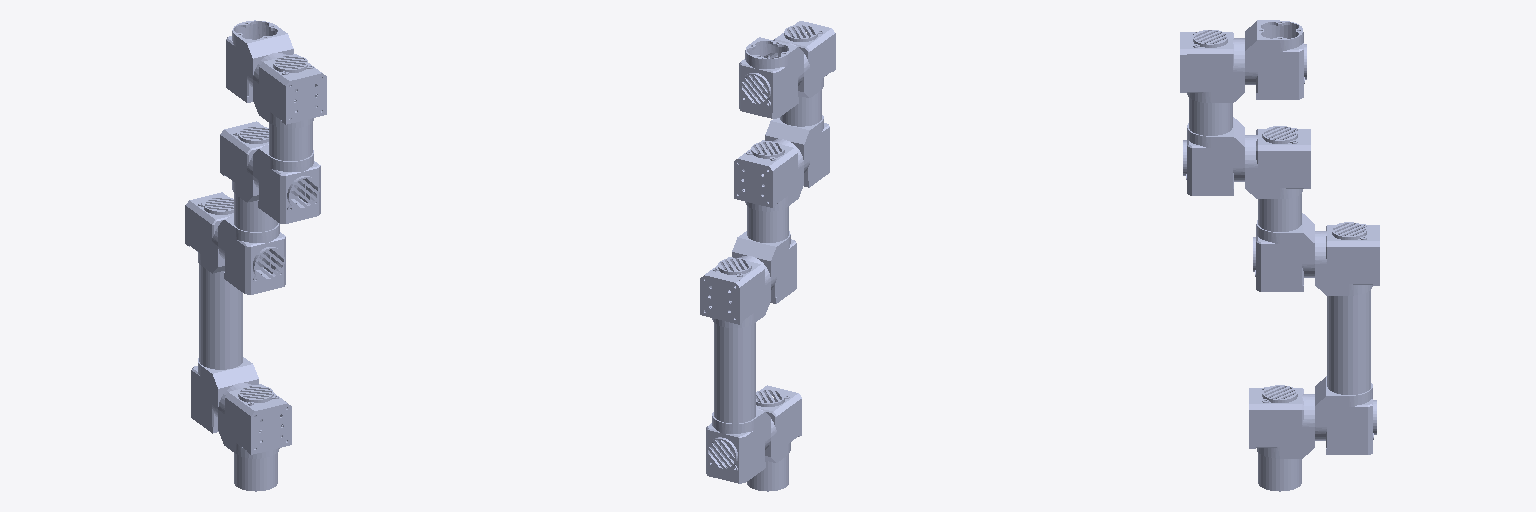
robot.urdf — main-assembly-v2.SLDASM:
<?xml version="1.0" encoding="utf-8"?>
<!-- This URDF was automatically created by SolidWorks to URDF Exporter! Originally created by Stephen Brawner (brawner@gmail.com) 
     Commit Version: 1.6.0-4-g7f85cfe  Build Version: 1.6.7995.38578
     For more information, please see http://wiki.ros.org/sw_urdf_exporter -->
<robot
  name="main-assembly-v2.SLDASM">
  <link
    name="base_link">
    <inertial>
      <origin
        xyz="8.78E-18 3.3363E-18 0.025"
        rpy="0 0 0" />
      <mass
        value="0.018221" />
      <inertia
        ixx="1.1467E-05"
        ixy="-3.9967E-37"
        ixz="-2.1165E-22"
        iyy="1.1467E-05"
        iyz="5.1714E-22"
        izz="1.5342E-05" />
    </inertial>
    <visual>
      <origin
        xyz="0 0 0"
        rpy="0 0 0" />
      <geometry>
        <mesh
          filename="../meshes/base_link.STL" />
      </geometry>
      <material
        name="">
        <color
          rgba="0.79216 0.81961 0.93333 1" />
      </material>
    </visual>
    <collision>
      <origin
        xyz="0 0 0"
        rpy="0 0 0" />
      <geometry>
        <mesh
          filename="../meshes/base_link.STL" />
      </geometry>
    </collision>
  </link>
  <link
    name="link_1">
    <inertial>
      <origin
        xyz="-1.5247E-05 0.0047463 0.039092"
        rpy="0 0 0" />
      <mass
        value="0.10906" />
      <inertia
        ixx="0.00012326"
        ixy="-1.3586E-07"
        ixz="2.5538E-08"
        iyy="0.00013158"
        iyz="1.1434E-05"
        izz="0.00011585" />
    </inertial>
    <visual>
      <origin
        xyz="0 0 0"
        rpy="0 0 0" />
      <geometry>
        <mesh
          filename="../meshes/link_1.STL" />
      </geometry>
      <material
        name="">
        <color
          rgba="0.79216 0.81961 0.93333 1" />
      </material>
    </visual>
    <collision>
      <origin
        xyz="0 0 0"
        rpy="0 0 0" />
      <geometry>
        <mesh
          filename="../meshes/link_1.STL" />
      </geometry>
    </collision>
  </link>
  <joint
    name="joint_1"
    type="revolute">
    <origin
      xyz="0 0 0.05"
      rpy="0 0 0" />
    <parent
      link="base_link" />
    <child
      link="link_1" />
    <axis
      xyz="0 0 -1" />
    <limit
      lower="-3.14"
      upper="3.14"
      effort="3"
      velocity="3" />
  </joint>
  <link
    name="link_2">
    <inertial>
      <origin
        xyz="1.2192E-05 -0.12079 0.089026"
        rpy="0 0 0" />
      <mass
        value="0.27278" />
      <inertia
        ixx="0.00037202"
        ixy="-1.1032E-07"
        ixz="-1.614E-07"
        iyy="0.00029345"
        iyz="-1.2572E-20"
        izz="0.00037293" />
    </inertial>
    <visual>
      <origin
        xyz="0 0 0"
        rpy="0 0 0" />
      <geometry>
        <mesh
          filename="../meshes/link_2.STL" />
      </geometry>
      <material
        name="">
        <color
          rgba="0.79216 0.81961 0.93333 1" />
      </material>
    </visual>
    <collision>
      <origin
        xyz="0 0 0"
        rpy="0 0 0" />
      <geometry>
        <mesh
          filename="../meshes/link_2.STL" />
      </geometry>
    </collision>
  </link>
  <joint
    name="joint_2"
    type="revolute">
    <origin
      xyz="0 0 0.047"
      rpy="-1.5707963267949 0 0" />
    <parent
      link="link_1" />
    <child
      link="link_2" />
    <axis
      xyz="0 0 -1" />
    <limit
      lower="-1.57"
      upper="1.57"
      effort="3"
      velocity="3" />
  </joint>
  <link
    name="link_3">
    <inertial>
      <origin
        xyz="1.3064E-05 -0.014386 0.08731"
        rpy="0 0 0" />
      <mass
        value="0.12728" />
      <inertia
        ixx="0.00013473"
        ixy="-1.3586E-07"
        ixz="-2.5538E-08"
        iyy="0.00014692"
        iyz="-1.1434E-05"
        izz="0.00012731" />
    </inertial>
    <visual>
      <origin
        xyz="0 0 0"
        rpy="0 0 0" />
      <geometry>
        <mesh
          filename="../meshes/link_3.STL" />
      </geometry>
      <material
        name="">
        <color
          rgba="0.79216 0.81961 0.93333 1" />
      </material>
    </visual>
    <collision>
      <origin
        xyz="0 0 0"
        rpy="0 0 0" />
      <geometry>
        <mesh
          filename="../meshes/link_3.STL" />
      </geometry>
    </collision>
  </link>
  <joint
    name="joint_3"
    type="revolute">
    <origin
      xyz="0 -0.24409 0.094085"
      rpy="-3.1416 0 -3.1416" />
    <parent
      link="link_2" />
    <child
      link="link_3" />
    <axis
      xyz="0 0 -1" />
    <limit
      lower="-3.14"
      upper="3.14"
      effort="3"
      velocity="3" />
  </joint>
  <link
    name="link_4">
    <inertial>
      <origin
        xyz="-1.5247E-05 0.0079075 0.0047463"
        rpy="0 0 0" />
      <mass
        value="0.10906" />
      <inertia
        ixx="0.00012326"
        ixy="-2.5538E-08"
        ixz="-1.3586E-07"
        iyy="0.00011585"
        iyz="-1.1434E-05"
        izz="0.00013158" />
    </inertial>
    <visual>
      <origin
        xyz="0 0 0"
        rpy="0 0 0" />
      <geometry>
        <mesh
          filename="../meshes/link_4.STL" />
      </geometry>
      <material
        name="">
        <color
          rgba="0.79216 0.81961 0.93333 1" />
      </material>
    </visual>
    <collision>
      <origin
        xyz="0 0 0"
        rpy="0 0 0" />
      <geometry>
        <mesh
          filename="../meshes/link_4.STL" />
      </geometry>
    </collision>
  </link>
  <joint
    name="joint_4"
    type="revolute">
    <origin
      xyz="0 -0.14409 0.094085"
      rpy="0 0 0" />
    <parent
      link="link_3" />
    <child
      link="link_4" />
    <axis
      xyz="0 1 0" />
    <limit
      lower="-3.14"
      upper="3.14"
      effort="3"
      velocity="3" />
  </joint>
  <link
    name="link_5">
    <inertial>
      <origin
        xyz="1.3064E-05 -0.014386 0.08731"
        rpy="0 0 0" />
      <mass
        value="0.12728" />
      <inertia
        ixx="0.00013473"
        ixy="-1.3586E-07"
        ixz="-2.5538E-08"
        iyy="0.00014692"
        iyz="-1.1434E-05"
        izz="0.00012731" />
    </inertial>
    <visual>
      <origin
        xyz="0 0 0"
        rpy="0 0 0" />
      <geometry>
        <mesh
          filename="../meshes/link_5.STL" />
      </geometry>
      <material
        name="">
        <color
          rgba="0.79216 0.81961 0.93333 1" />
      </material>
    </visual>
    <collision>
      <origin
        xyz="0 0 0"
        rpy="0 0 0" />
      <geometry>
        <mesh
          filename="../meshes/link_5.STL" />
      </geometry>
    </collision>
  </link>
  <joint
    name="joint_5"
    type="revolute">
    <origin
      xyz="0 0 0"
      rpy="0 0 0" />
    <parent
      link="link_4" />
    <child
      link="link_5" />
    <axis
      xyz="0 0 -1" />
    <limit
      lower="-3.14"
      upper="3.14"
      effort="3"
      velocity="3" />
  </joint>
  <link
    name="link_6">
    <inertial>
      <origin
        xyz="1.5247E-05 -0.0079075 0.0047463"
        rpy="0 0 0" />
      <mass
        value="0.10906" />
      <inertia
        ixx="0.00012326"
        ixy="-2.5538E-08"
        ixz="1.3586E-07"
        iyy="0.00011585"
        iyz="1.1434E-05"
        izz="0.00013158" />
    </inertial>
    <visual>
      <origin
        xyz="0 0 0"
        rpy="0 0 0" />
      <geometry>
        <mesh
          filename="../meshes/link_6.STL" />
      </geometry>
      <material
        name="">
        <color
          rgba="0.79216 0.81961 0.93333 1" />
      </material>
    </visual>
    <collision>
      <origin
        xyz="0 0 0"
        rpy="0 0 0" />
      <geometry>
        <mesh
          filename="../meshes/link_6.STL" />
      </geometry>
    </collision>
  </link>
  <joint
    name="joint_6"
    type="revolute">
    <origin
      xyz="0 -0.14409 0.094085"
      rpy="3.1416 0 0" />
    <parent
      link="link_5" />
    <child
      link="link_6" />
    <axis
      xyz="0 -1 0" />
    <limit
      lower="-3.14"
      upper="3.14"
      effort="3"
      velocity="3" />
  </joint>
  <link
    name="link_7">
    <inertial>
      <origin
        xyz="1.5247E-05 -0.0047463 0.086178"
        rpy="0 0 0" />
      <mass
        value="0.10906" />
      <inertia
        ixx="0.00012326"
        ixy="-1.3586E-07"
        ixz="-2.5538E-08"
        iyy="0.00013158"
        iyz="-1.1434E-05"
        izz="0.00011585" />
    </inertial>
    <visual>
      <origin
        xyz="0 0 0"
        rpy="0 0 0" />
      <geometry>
        <mesh
          filename="../meshes/link_7.STL" />
      </geometry>
      <material
        name="">
        <color
          rgba="0.79216 0.81961 0.93333 1" />
      </material>
    </visual>
    <collision>
      <origin
        xyz="0 0 0"
        rpy="0 0 0" />
      <geometry>
        <mesh
          filename="../meshes/link_7.STL" />
      </geometry>
    </collision>
  </link>
  <joint
    name="joint_7"
    type="revolute">
    <origin
      xyz="0 0 0"
      rpy="0 0 -3.1416" />
    <parent
      link="link_6" />
    <child
      link="link_7" />
    <axis
      xyz="0 0 -1" />
    <limit
      lower="-3.14"
      upper="3.14"
      effort="3"
      velocity="3" />
  </joint>
</robot>

--- Facts derived from the render (not from the file) ---
The picture shows the robot from 3 angles, left to right: view 1: azimuth 30°, elevation 25°; view 2: azimuth 150°, elevation 25°; view 3: azimuth 270°, elevation 25°; orthographic projection.
Robot: main-assembly-v2.SLDASM — 8 links, 7 joints (7 revolute); root link base_link; default pose: every joint at zero.
Visible links, largest first — view 1: link_2, link_5, link_3, link_1, link_6, link_7, link_4, base_link; view 2: link_2, link_7, link_4, link_3, link_5, link_6, link_1, base_link; view 3: link_2, link_3, link_5, link_7, link_1, link_4, link_6, base_link.
Boxes of the visible links, x1,y1,x2,y2 form: link_2: (185, 192, 258, 433); link_5: (253, 122, 320, 223); link_3: (218, 193, 285, 294); link_1: (218, 383, 291, 458); link_6: (253, 53, 326, 128); link_7: (226, 20, 293, 102); link_4: (220, 121, 268, 202); base_link: (234, 453, 277, 491); link_2: (700, 256, 770, 483); link_7: (739, 37, 803, 118); link_4: (734, 139, 803, 211); link_3: (732, 206, 796, 303); link_5: (765, 90, 829, 187); link_6: (767, 21, 835, 97); link_1: (756, 385, 801, 462); base_link: (747, 454, 788, 491); link_2: (1315, 222, 1379, 454); link_3: (1253, 194, 1314, 291); link_5: (1183, 98, 1244, 195); link_7: (1245, 20, 1306, 99); link_1: (1249, 385, 1314, 458); link_4: (1245, 126, 1310, 198); link_6: (1180, 30, 1244, 102); base_link: (1258, 453, 1301, 491).
Size in the robot's own frame: 0.064 by 0.2722 by 0.6764 metres.
8 mesh visuals loaded from 8 distinct referenced files (8 binary STL).
